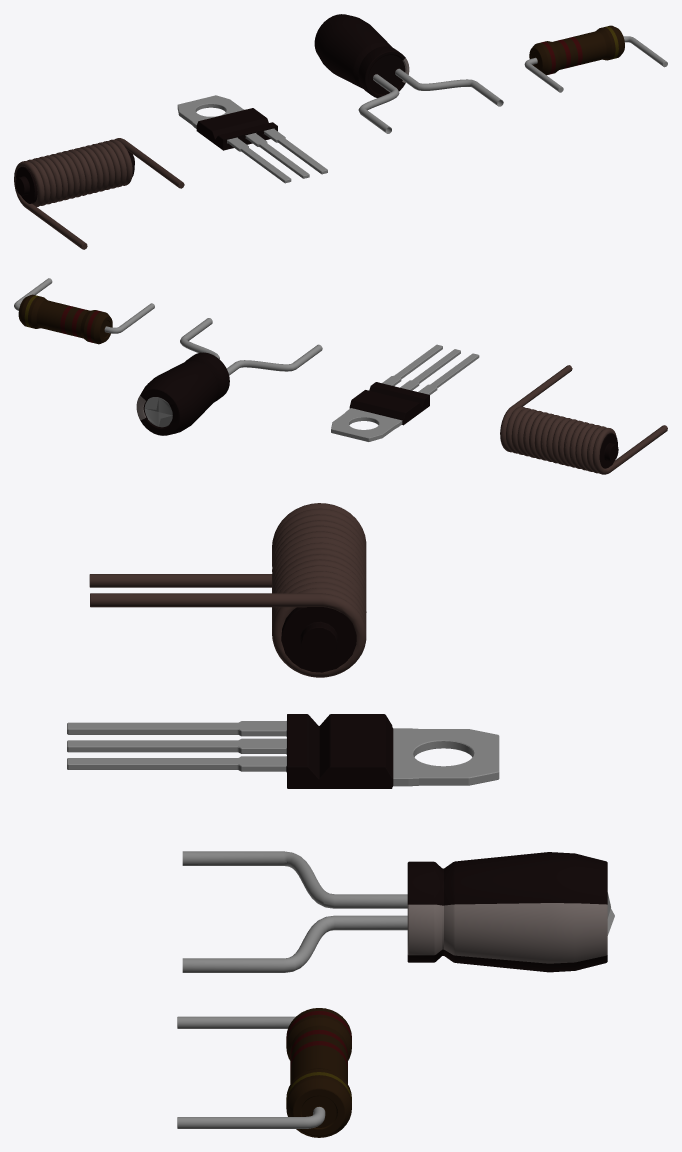
Rendered from Broken parts.fbx.
3 views of the same model, one above another, from view 1: azimuth 30°, elevation 25°; view 2: azimuth 150°, elevation 25°; view 3: azimuth 270°, elevation 25° (orthographic). The views are drawn at different scales.
Parts seen in each view (by area): view 1: Cievka Blown, Kondenzator Blown, Rezistor Blown, Tranzistor, Tranzistor Leg 2, Tranzistor Leg 1, Tranzistor Leg 3; view 2: Cievka Blown, Kondenzator Blown, Tranzistor, Rezistor Blown, Tranzistor Leg 1, Tranzistor Leg 3, Tranzistor Leg 2; view 3: Kondenzator Blown, Cievka Blown, Tranzistor, Rezistor Blown, Tranzistor Leg 1, Tranzistor Leg 2, Tranzistor Leg 3.
Boxes of the visible parts, bbox=[...] form: Cievka Blown: bbox=[14, 138, 184, 249]; Kondenzator Blown: bbox=[314, 14, 503, 133]; Rezistor Blown: bbox=[524, 25, 667, 92]; Tranzistor: bbox=[177, 95, 277, 150]; Tranzistor Leg 2: bbox=[245, 133, 309, 178]; Tranzistor Leg 1: bbox=[227, 137, 291, 183]; Tranzistor Leg 3: bbox=[264, 129, 327, 174]; Cievka Blown: bbox=[500, 365, 667, 474]; Kondenzator Blown: bbox=[136, 318, 322, 435]; Tranzistor: bbox=[331, 382, 429, 441]; Rezistor Blown: bbox=[14, 278, 154, 344]; Tranzistor Leg 1: bbox=[418, 353, 479, 394]; Tranzistor Leg 3: bbox=[382, 344, 442, 386]; Tranzistor Leg 2: bbox=[400, 349, 460, 390]; Kondenzator Blown: bbox=[182, 851, 614, 972]; Cievka Blown: bbox=[89, 503, 366, 677]; Tranzistor: bbox=[286, 714, 499, 788]; Rezistor Blown: bbox=[177, 1008, 351, 1137]; Tranzistor Leg 1: bbox=[67, 721, 286, 736]; Tranzistor Leg 2: bbox=[67, 738, 286, 753]; Tranzistor Leg 3: bbox=[67, 756, 286, 771].
Bounding box in the file's own units: 5488 × 476 × 2163.
